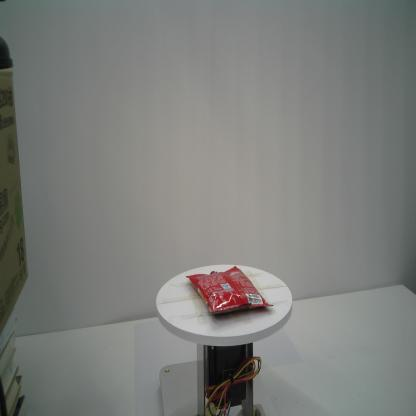Instant Drink: (185, 265, 275, 318)
